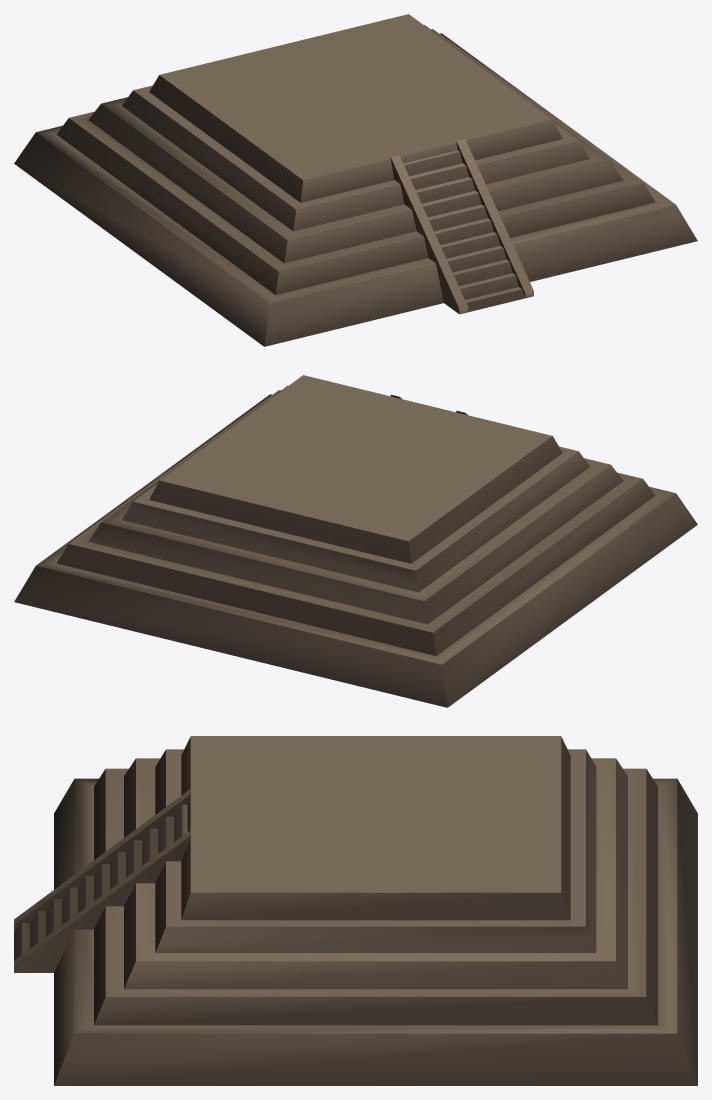
File: Historical_SteppedPyramidSmall.glb
3 renders of one model, top to bottom at view 1: azimuth 30°, elevation 25°; view 2: azimuth 150°, elevation 25°; view 3: azimuth 270°, elevation 25°, orthographic. The views are drawn at different scales.
Visible parts, largest first — view 1: base.089; view 2: base.089; view 3: base.089.
Part boxes in pixels (left/top/right/bottom): base.089: left=14, top=14, right=697, bottom=346; base.089: left=14, top=375, right=697, bottom=707; base.089: left=14, top=736, right=697, bottom=1085.
Size of the model in its own units: 28.68 by 6.77 by 30.46.
